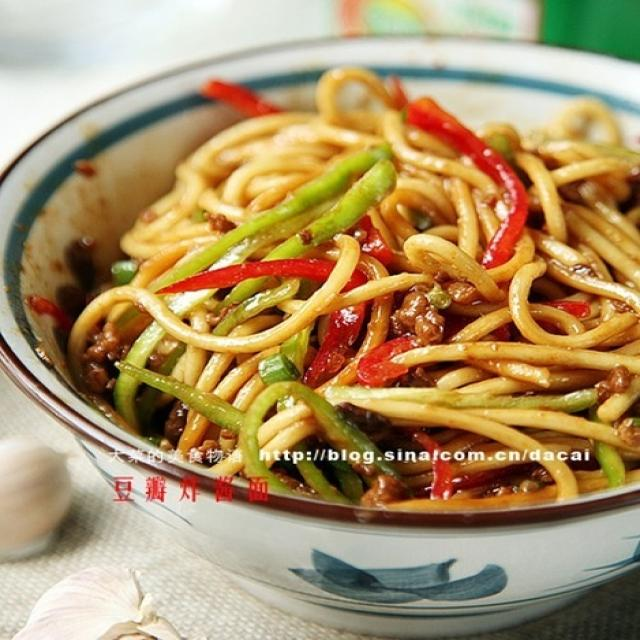面条主食: (10, 21, 633, 570)
